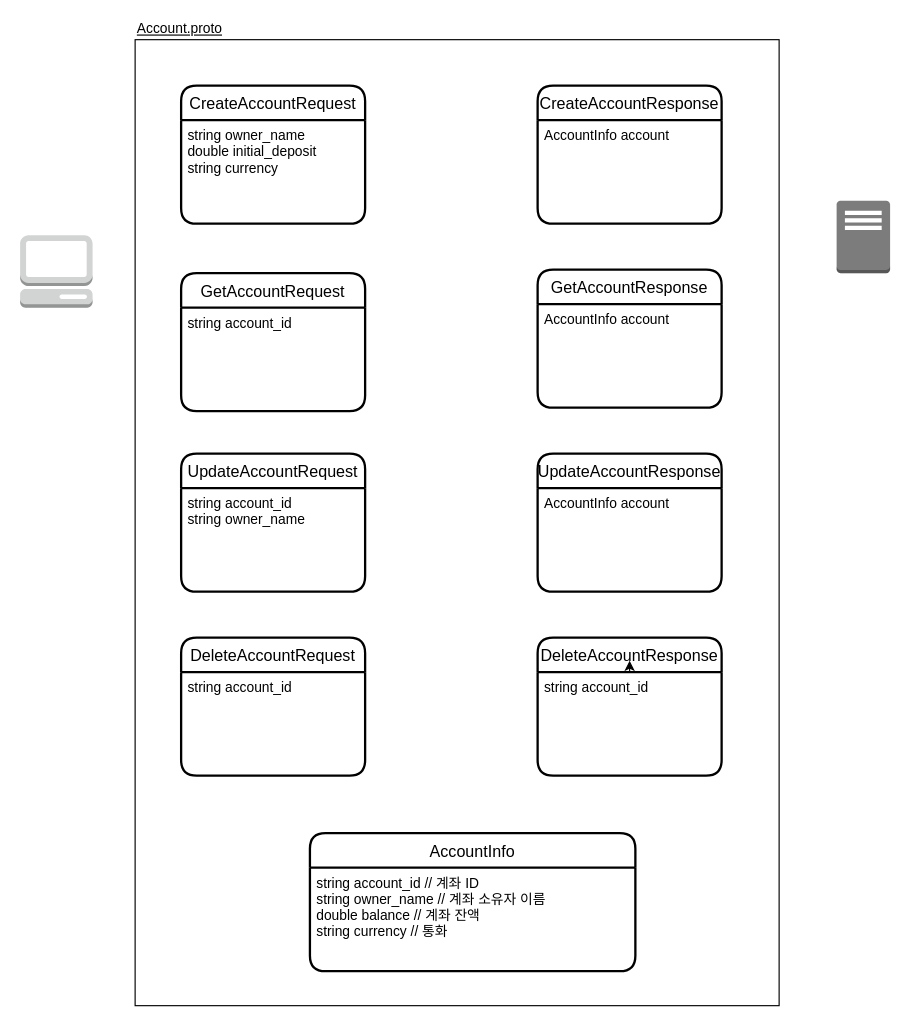
Image size: 911x1026. Some labels were removed from this diagram. Each missing label, with the centre of its shape:
Client: (56,271)
Server: (862,236)
